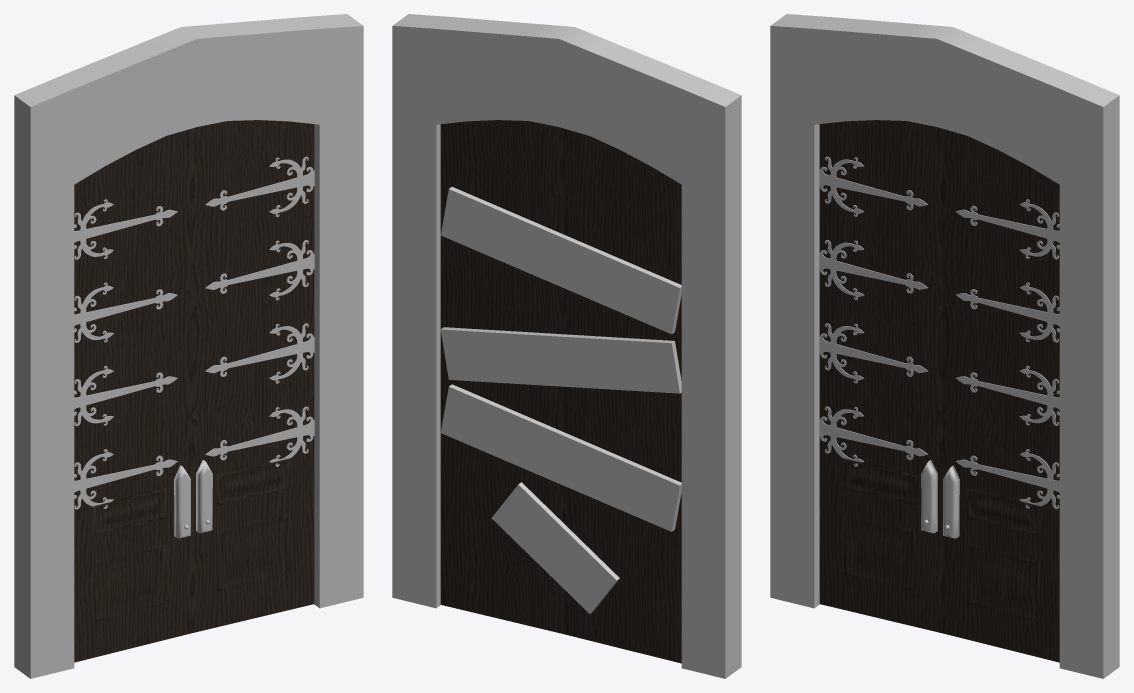
Rendered from evilDoor.fbx.
The picture shows the model from 3 angles, left to right: view 1: azimuth 30°, elevation 25°; view 2: azimuth 150°, elevation 25°; view 3: azimuth 330°, elevation 25°; orthographic projection.
Visible parts, largest first — view 1: door001, frame001, Line002, Line003, Line001, Line004, Line006, Line007, Line008, Line005; view 2: frame001, door001, plank005, plank006, plank004, plank007; view 3: door001, frame001, Line007, Line008, Line006, Line005, Line002, Line001, Line003, Line004.
Boxes of the visible parts, left/top/right/bottom form: door001: left=74, top=120, right=314, bottom=662; frame001: left=14, top=14, right=363, bottom=678; Line002: left=205, top=240, right=314, bottom=300; Line003: left=205, top=323, right=314, bottom=383; Line001: left=205, top=156, right=314, bottom=216; Line004: left=205, top=406, right=314, bottom=466; Line006: left=74, top=366, right=177, bottom=426; Line007: left=74, top=282, right=177, bottom=342; Line008: left=74, top=199, right=177, bottom=259; Line005: left=74, top=449, right=177, bottom=509; frame001: left=392, top=14, right=741, bottom=678; door001: left=440, top=120, right=681, bottom=663; plank005: left=440, top=187, right=681, bottom=334; plank006: left=440, top=384, right=681, bottom=531; plank004: left=440, top=327, right=681, bottom=393; plank007: left=491, top=482, right=619, bottom=613; door001: left=819, top=120, right=1059, bottom=662; frame001: left=770, top=14, right=1119, bottom=678; Line007: left=819, top=240, right=927, bottom=300; Line008: left=819, top=156, right=927, bottom=216; Line006: left=819, top=323, right=927, bottom=383; Line005: left=819, top=406, right=927, bottom=466; Line002: left=956, top=282, right=1059, bottom=342; Line001: left=955, top=199, right=1059, bottom=259; Line003: left=956, top=365, right=1059, bottom=425; Line004: left=956, top=449, right=1059, bottom=509.
Bounding box in the file's own units: 305 × 524 × 27.58.
